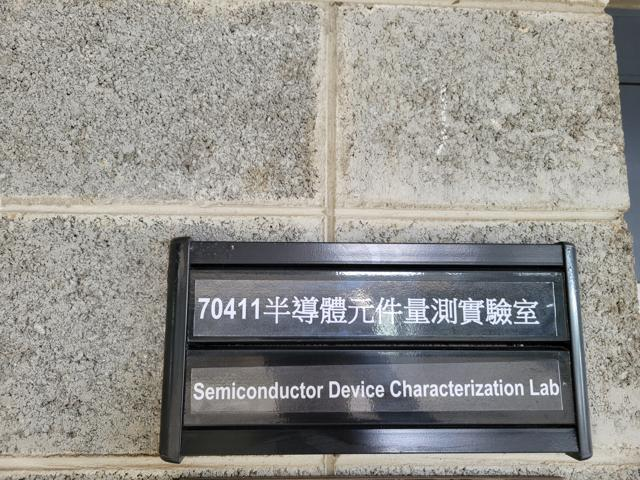doorplate: (153, 225, 599, 469)
